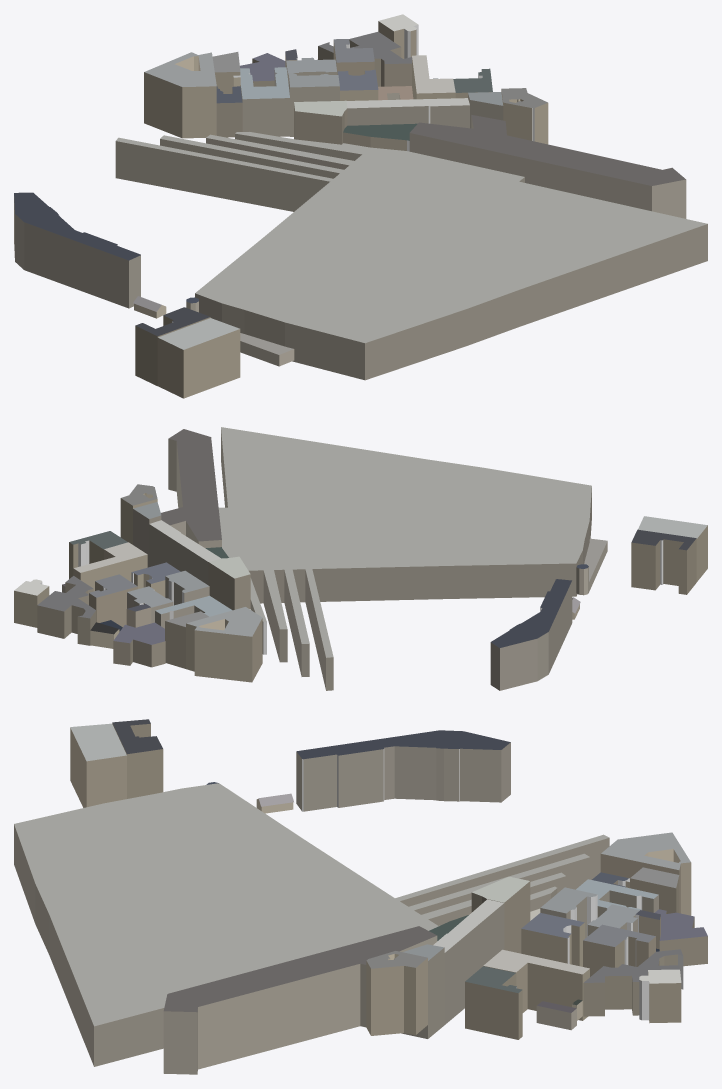
The picture shows the model from 3 angles, top to bottom: view 1: azimuth 30°, elevation 25°; view 2: azimuth 150°, elevation 25°; view 3: azimuth 270°, elevation 25°; orthographic projection. The views are drawn at different scales.
Visible parts, largest first — view 1: tuile; view 2: tuile; view 3: tuile.
Part boxes in pixels (<box>): tuile: <box>14,14,707,398</box>; tuile: <box>14,427,707,690</box>; tuile: <box>14,719,707,1074</box>.
Bounding box in the file's own units: 298 × 38.18 × 293.
